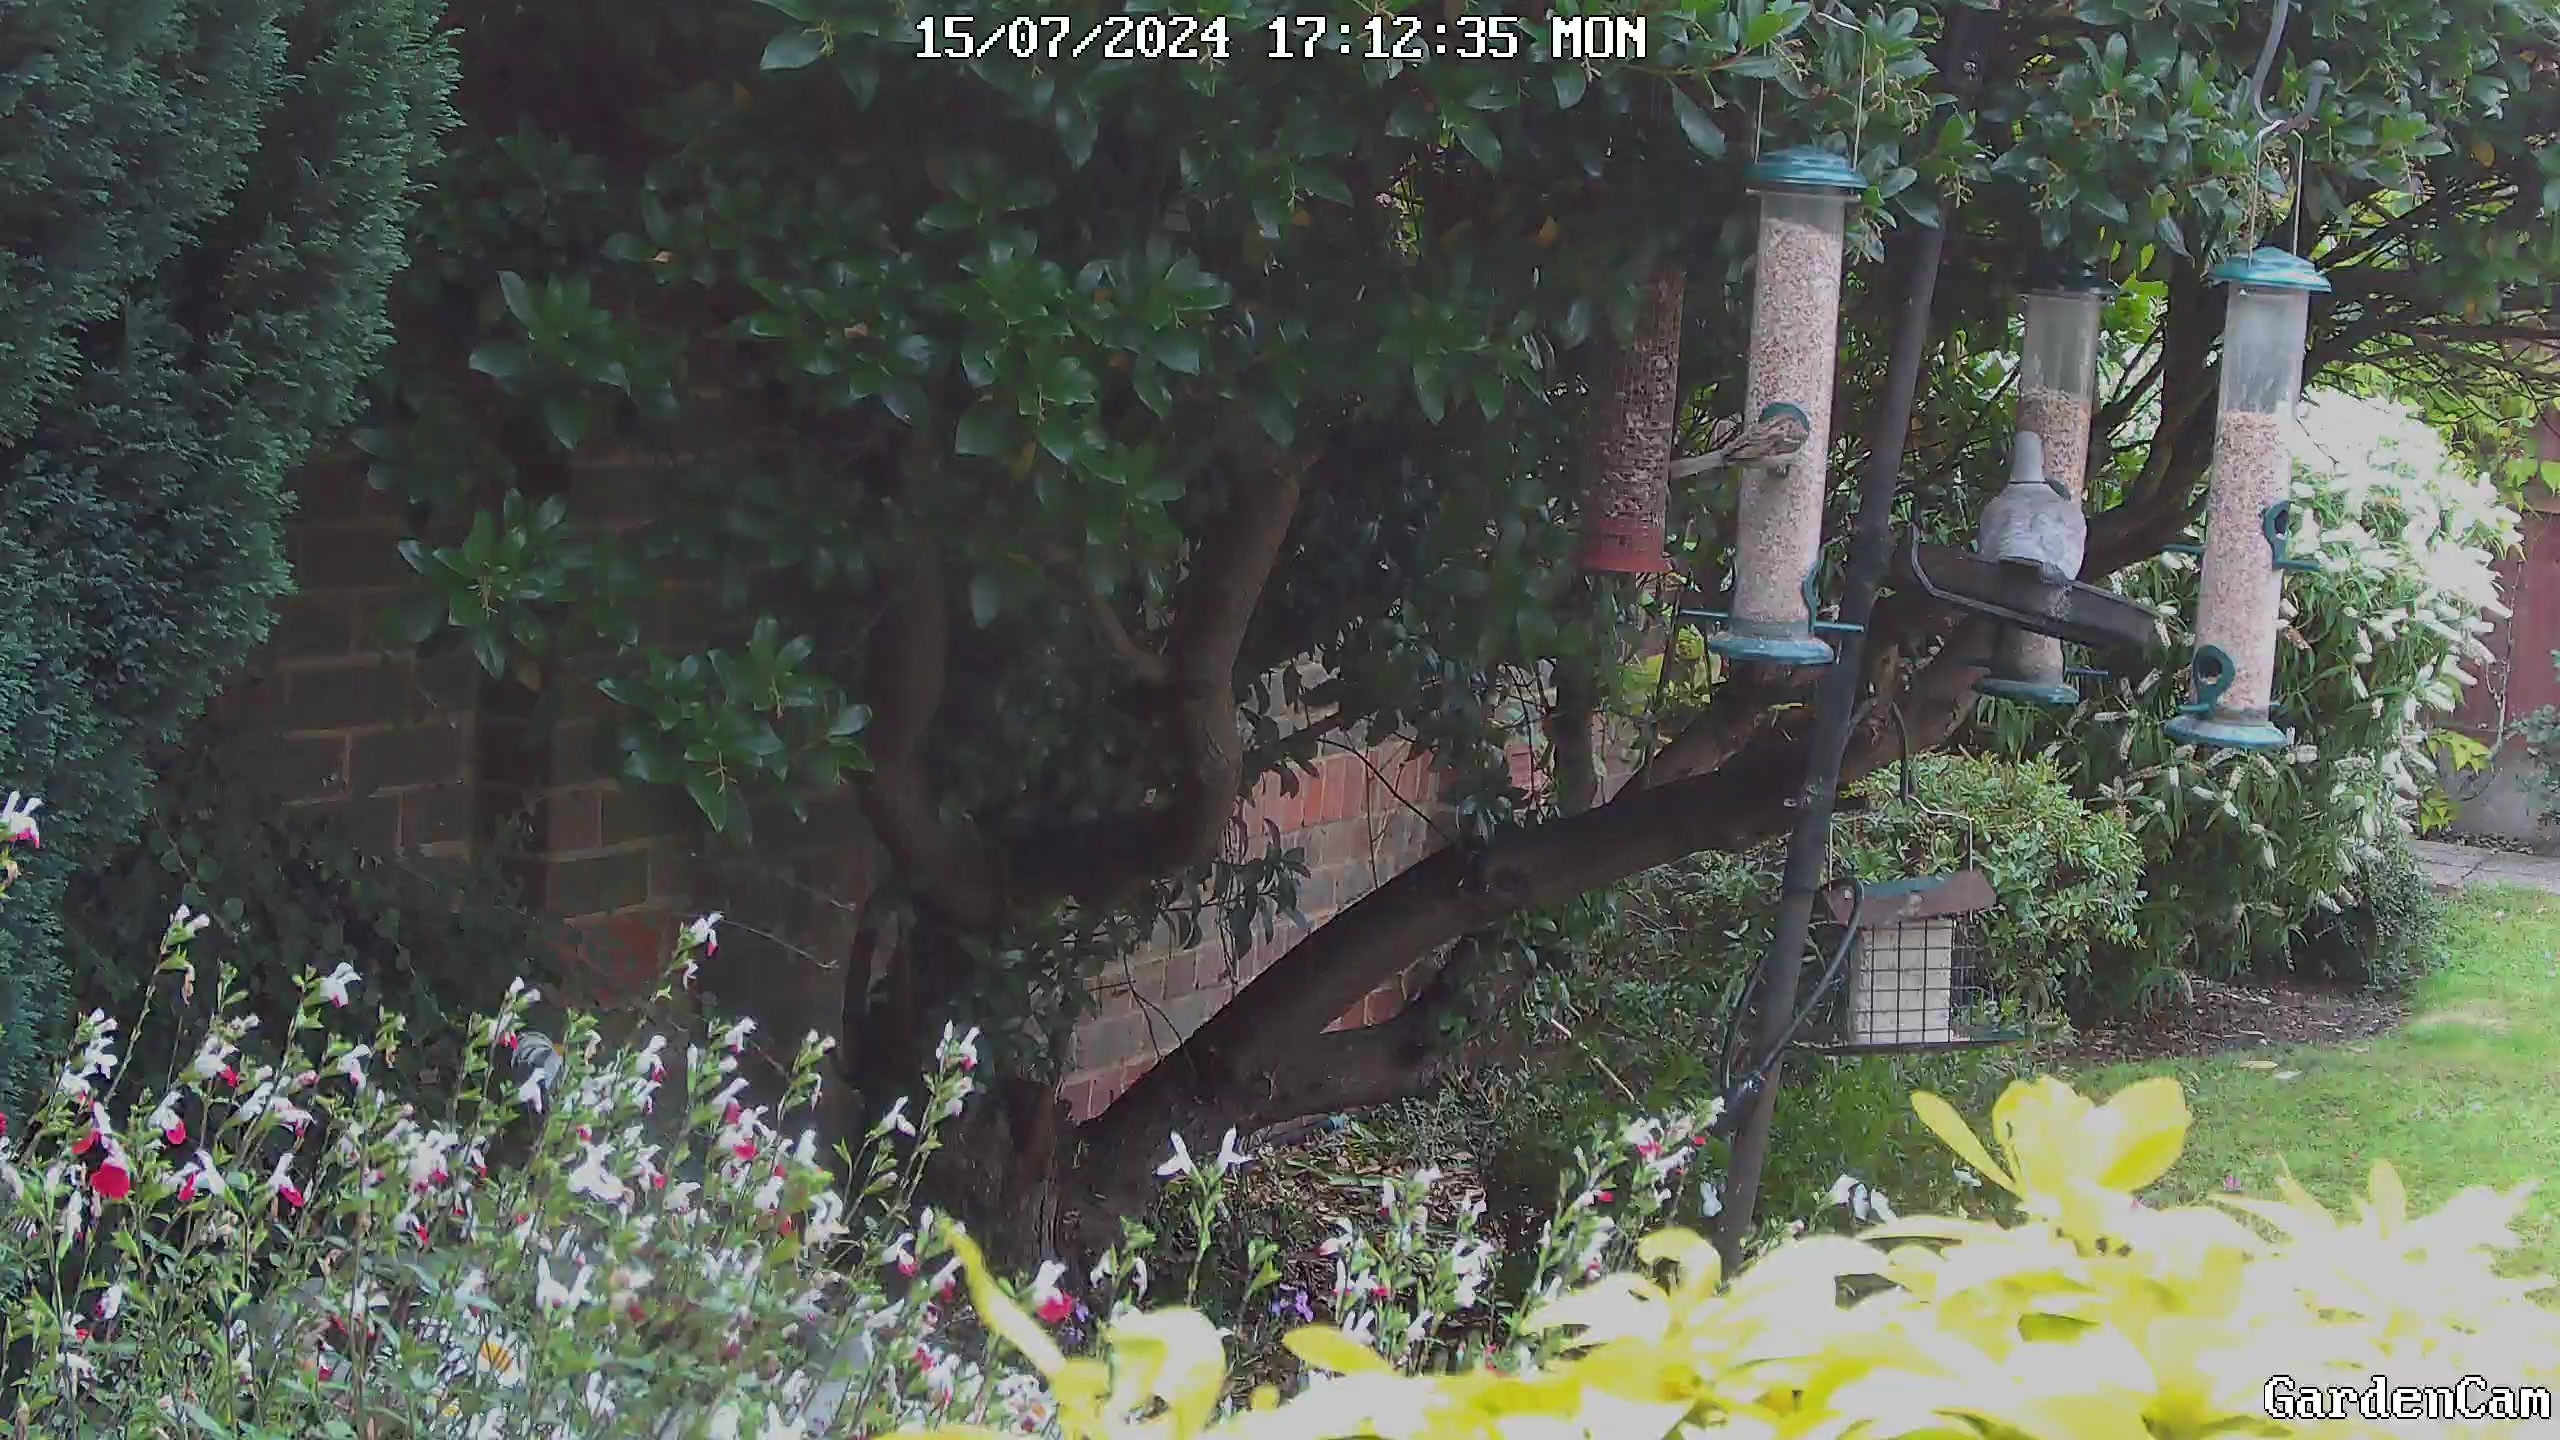House_Sparrow: (1662, 389, 1830, 496)
White_Collared_Dove: (1946, 411, 2105, 622)
